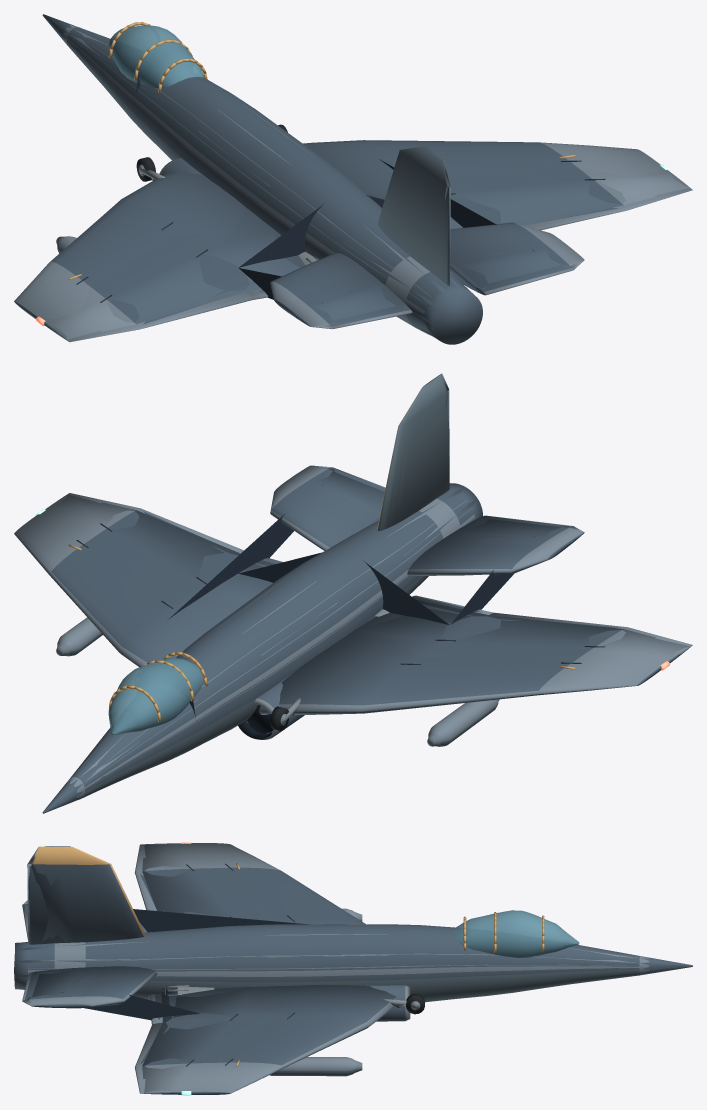
3 views of the same model, one above another, from view 1: azimuth 30°, elevation 25°; view 2: azimuth 150°, elevation 25°; view 3: azimuth 270°, elevation 25° (orthographic). The views are drawn at different scales.
Visible parts, largest first — view 1: Airframe shell mesh, Airframe shell.002 mesh, Airframe shell.001 mesh, Aft nacelles, Central fuselage, Canopy glass, Starboard wing, Port wing, Canopy glass.001, Forward fuselage, Hinged Aileron, Hinged Aileron.001; view 2: Airframe shell mesh, Airframe shell.002 mesh, Airframe shell.001 mesh, Aft nacelles, Central fuselage, Canopy glass, Starboard wing, Canopy glass.001, Forward fuselage, Port wing, Jamming pod, Jamming pod.001; view 3: Airframe shell mesh, Airframe shell.002 mesh, Airframe shell.001 mesh, Aft nacelles, Canopy glass, Port wing, Canopy glass.001, Central fuselage, Forward fuselage, Starboard wing, Jamming pod.001, Hinged Aileron.001 (+2 smaller).
Part boxes in pixels (x1,y1,x2,y2): Airframe shell mesh: (14, 14, 669, 344); Airframe shell.002 mesh: (43, 14, 689, 344); Airframe shell.001 mesh: (42, 15, 690, 344); Aft nacelles: (238, 146, 556, 342); Central fuselage: (134, 43, 384, 267); Canopy glass: (108, 25, 204, 88); Starboard wing: (379, 159, 688, 271); Port wing: (41, 233, 344, 338); Canopy glass.001: (109, 25, 203, 86); Forward fuselage: (70, 22, 192, 122); Hinged Aileron: (56, 292, 252, 342); Hinged Aileron.001: (524, 188, 692, 230); Airframe shell mesh: (14, 382, 678, 813); Airframe shell.002 mesh: (43, 374, 689, 812); Airframe shell.001 mesh: (43, 374, 690, 813); Aft nacelles: (239, 374, 556, 624); Central fuselage: (162, 549, 449, 750); Canopy glass: (108, 657, 203, 734); Starboard wing: (41, 465, 344, 655); Canopy glass.001: (109, 659, 202, 730); Forward fuselage: (43, 660, 194, 813); Port wing: (410, 524, 688, 746); Jamming pod: (428, 699, 499, 746); Jamming pod.001: (57, 617, 102, 656); Airframe shell mesh: (14, 842, 692, 1095); Airframe shell.002 mesh: (15, 843, 692, 1094); Airframe shell.001 mesh: (15, 843, 692, 1094); Aft nacelles: (15, 846, 200, 1020); Canopy glass: (455, 911, 578, 957); Port wing: (24, 843, 361, 932); Canopy glass.001: (457, 910, 564, 957); Central fuselage: (201, 915, 493, 1020); Forward fuselage: (493, 910, 649, 993); Starboard wing: (25, 991, 354, 1094); Jamming pod.001: (269, 1057, 362, 1076); Hinged Aileron.001: (135, 1022, 162, 1093).
Bounding box in the file's own units: 16.28 × 4.79 × 18.63.
